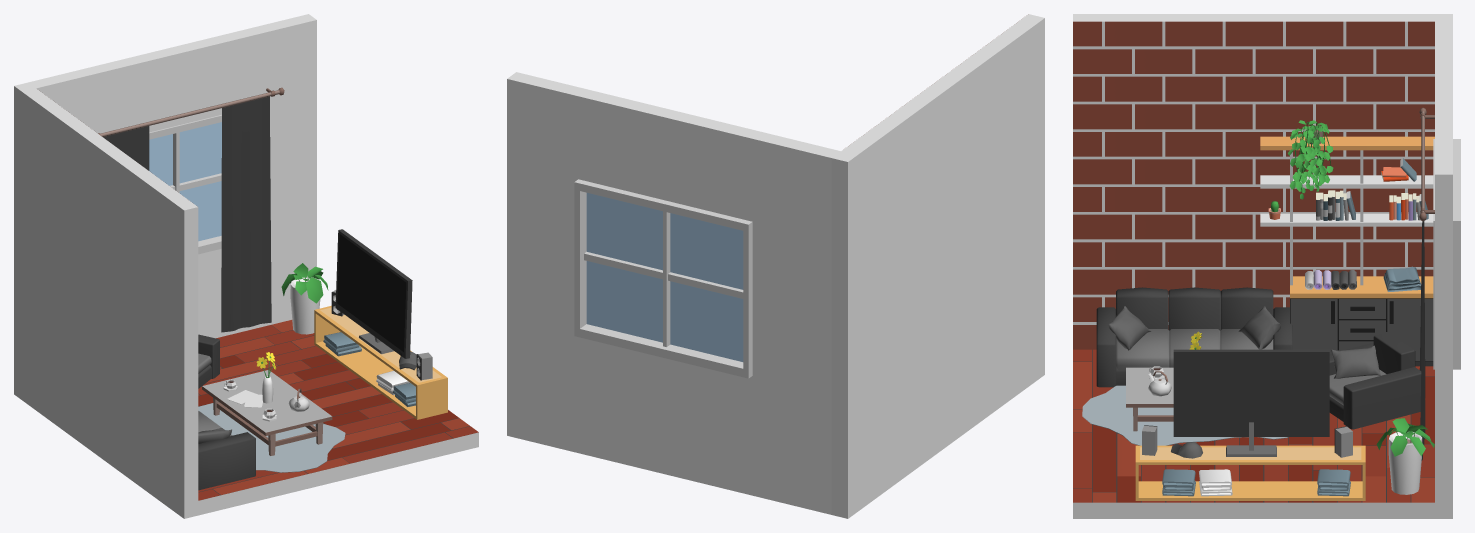
File: room_20.glb
The picture shows the model from 3 angles, left to right: view 1: azimuth 30°, elevation 25°; view 2: azimuth 150°, elevation 25°; view 3: azimuth 270°, elevation 25°; orthographic projection. The views are drawn at different scales.
Visible parts, largest first — view 1: Walls_006.060, floor_001.004, Walls_006.061, Curtains_026.001, Walls_006.063, electronics_033.001, window_008.003, Walls_011.012, tv_wall_026.001, coffee_table_019.004, carpet_002.001, sofa_006.003 (+8 smaller); view 2: Walls_006.060, Walls_006.059, window_008.003, Walls_006.061, Walls_006.062, Walls_006.063; view 3: wall_005.002, Walls_006.060, office_table_039.001, floor_001.004, electronics_033.001, sofa_006.003, armchair_002.003, Walls_011.012, Walls_006.061, tv_wall_026.001, carpet_002.001, flower_001.002 (+18 smaller).
Boxes of the visible parts, <box> form: Walls_006.060: <box>14,82,198,518</box>; floor_001.004: <box>198,320,478,500</box>; Walls_006.061: <box>246,14,316,328</box>; Curtains_026.001: <box>221,96,271,332</box>; Walls_006.063: <box>98,29,253,132</box>; electronics_033.001: <box>335,229,412,358</box>; window_008.003: <box>149,115,221,254</box>; Walls_011.012: <box>198,325,478,515</box>; tv_wall_026.001: <box>314,305,447,419</box>; coffee_table_019.004: <box>202,370,332,455</box>; carpet_002.001: <box>198,403,345,472</box>; sofa_006.003: <box>198,411,255,490</box>; Walls_006.060: <box>831,14,1044,518</box>; Walls_006.059: <box>750,131,840,514</box>; window_008.003: <box>574,179,752,378</box>; Walls_006.061: <box>507,72,588,453</box>; Walls_006.062: <box>580,337,750,494</box>; Walls_006.063: <box>580,90,759,221</box>; wall_005.002: <box>1073,21,1434,349</box>; Walls_006.060: <box>1073,14,1452,324</box>; office_table_039.001: <box>1260,136,1434,366</box>; floor_001.004: <box>1073,349,1434,502</box>; electronics_033.001: <box>1173,349,1329,456</box>; sofa_006.003: <box>1096,287,1292,387</box>; armchair_002.003: <box>1329,332,1421,429</box>; Walls_011.012: <box>1073,349,1434,518</box>; Walls_006.061: <box>1435,140,1452,518</box>; tv_wall_026.001: <box>1135,445,1365,500</box>; carpet_002.001: <box>1082,385,1288,445</box>; flower_001.002: <box>1376,418,1434,494</box>.
Size of the model in its own units: 4.2 by 4.2 by 4.29.
1 material, 1 textured.
